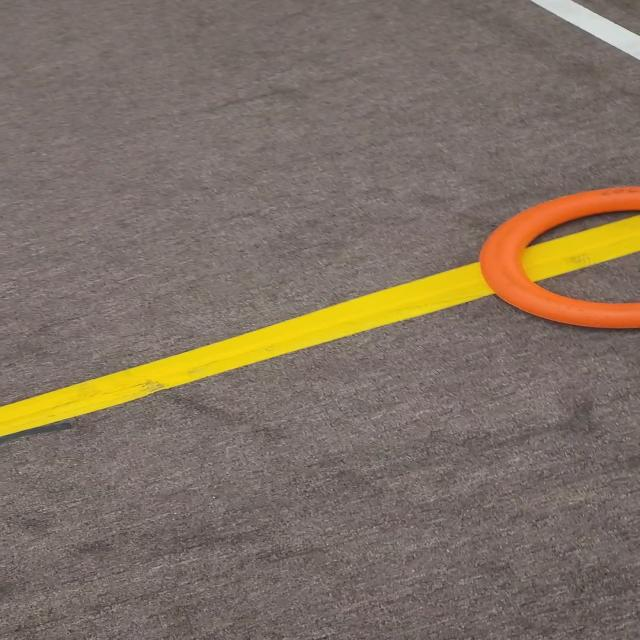note: (484, 177, 640, 340)
